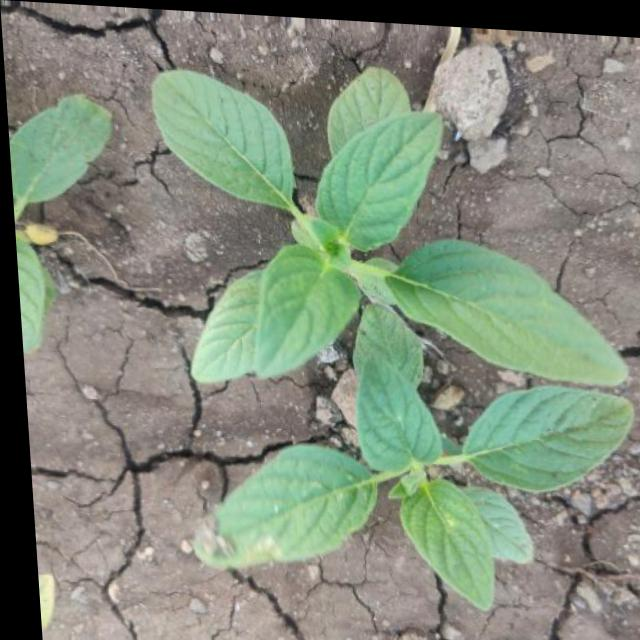crop: (116, 48, 638, 407), (161, 353, 637, 612)
